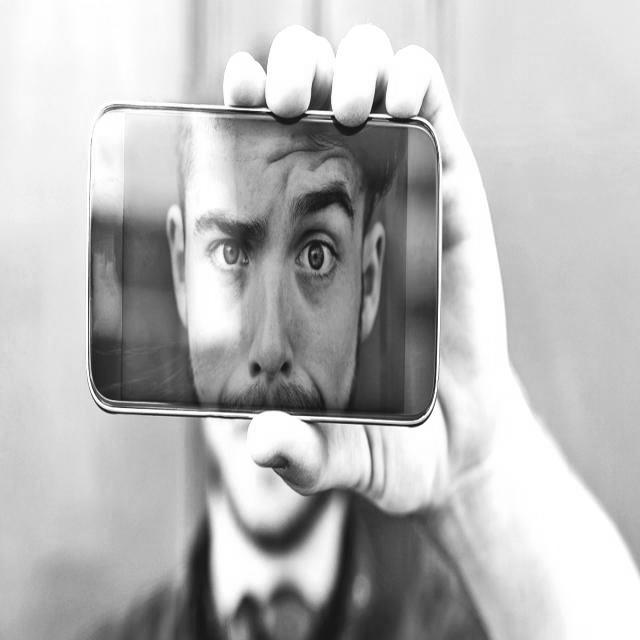fake: (83, 96, 444, 430)
